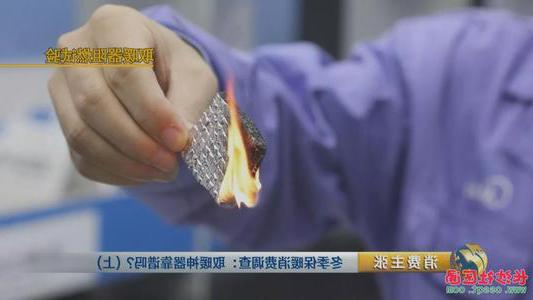fire: (212, 82, 267, 227)
